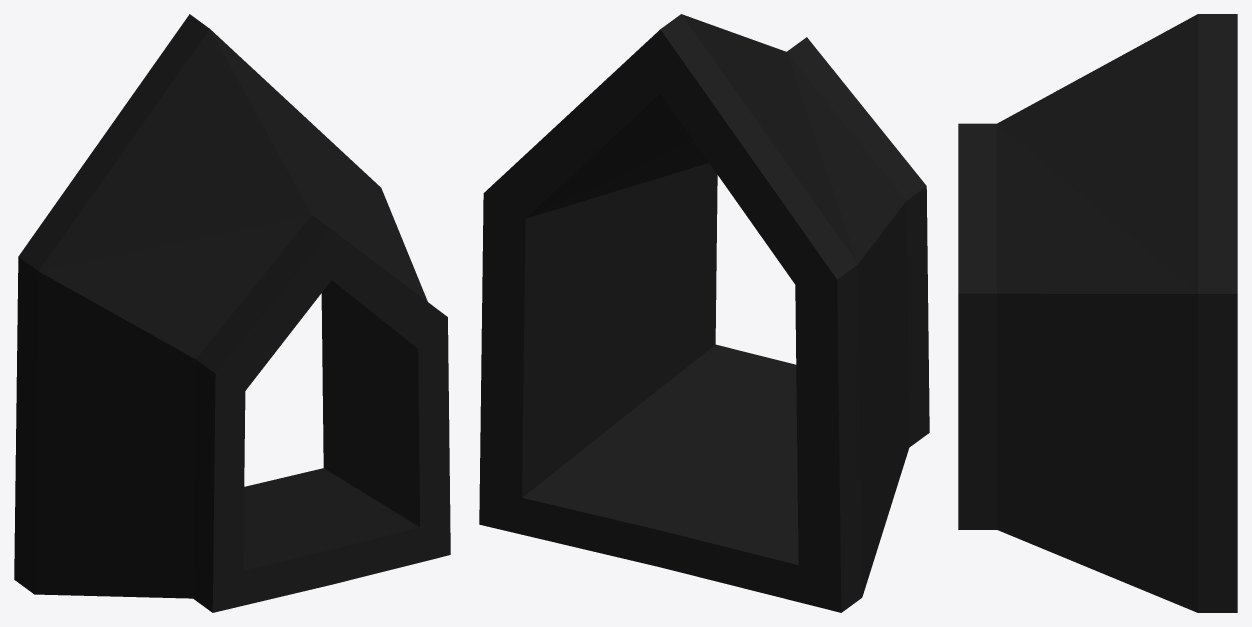
The model's file is Opening_Frame_Big.fbx.
3 views of the same model, side by side, from view 1: azimuth 30°, elevation 25°; view 2: azimuth 150°, elevation 25°; view 3: azimuth 270°, elevation 25° (orthographic). The views are drawn at different scales.
Parts seen in each view (by area): view 1: Opening_Frame_Big; view 2: Opening_Frame_Big; view 3: Opening_Frame_Big.
Part boxes in pixels (<box>): Opening_Frame_Big: <box>14,14,450,612</box>; Opening_Frame_Big: <box>479,14,929,612</box>; Opening_Frame_Big: <box>958,14,1237,612</box>.
Bounding box in the file's own units: 365 × 519 × 256.
